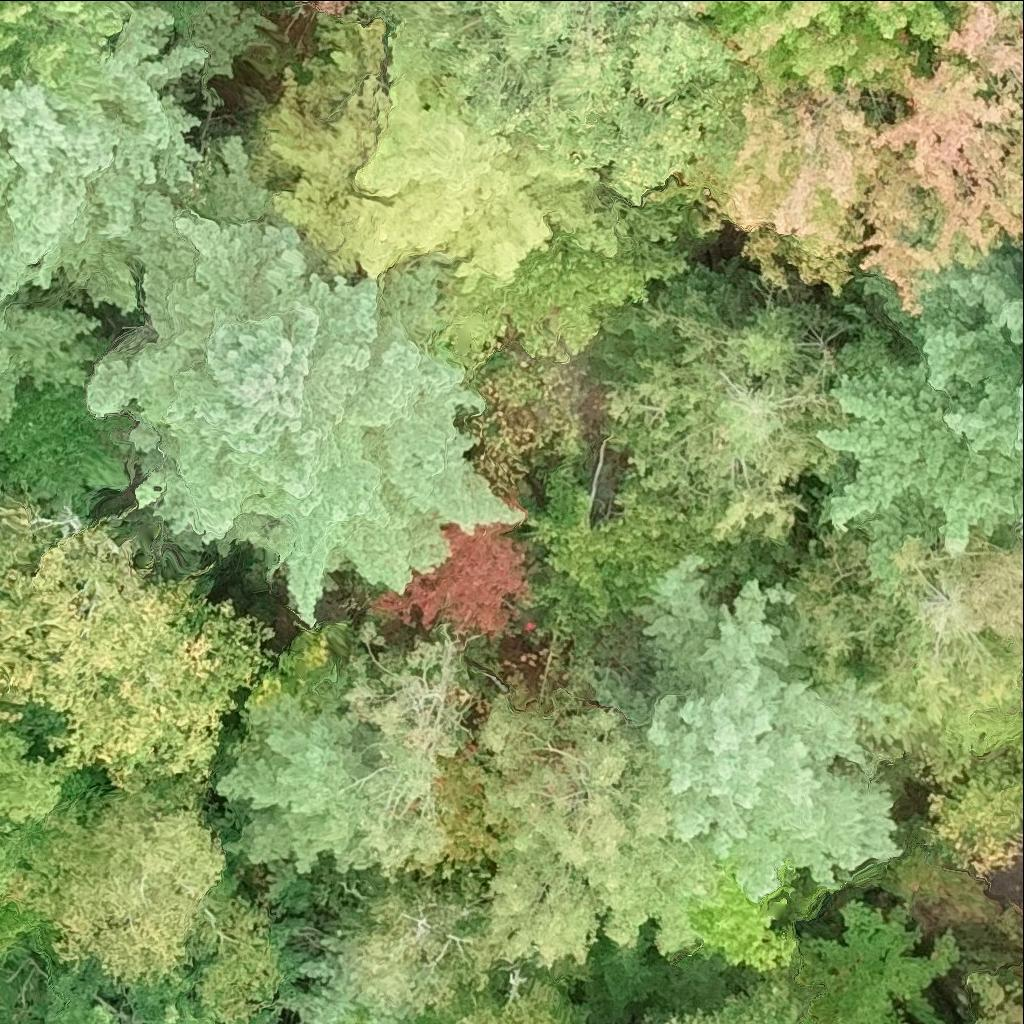crown: (86, 133, 524, 624), (247, 1, 685, 295), (682, 1, 1023, 309), (634, 558, 907, 892), (377, 0, 752, 200), (590, 261, 845, 541), (0, 527, 271, 788), (812, 267, 1023, 587), (767, 529, 1023, 779), (0, 8, 212, 309), (475, 695, 705, 967), (54, 811, 276, 1019), (327, 874, 589, 1023), (426, 230, 681, 373), (688, 0, 977, 122), (214, 694, 380, 875), (25, 922, 245, 1023), (691, 832, 796, 966), (0, 729, 72, 910), (0, 0, 137, 91), (277, 931, 408, 1023), (0, 308, 103, 417), (639, 981, 810, 1023), (968, 974, 1023, 1023), (301, 0, 358, 11), (340, 1008, 373, 1023), (0, 708, 24, 723), (414, 1017, 450, 1023)
